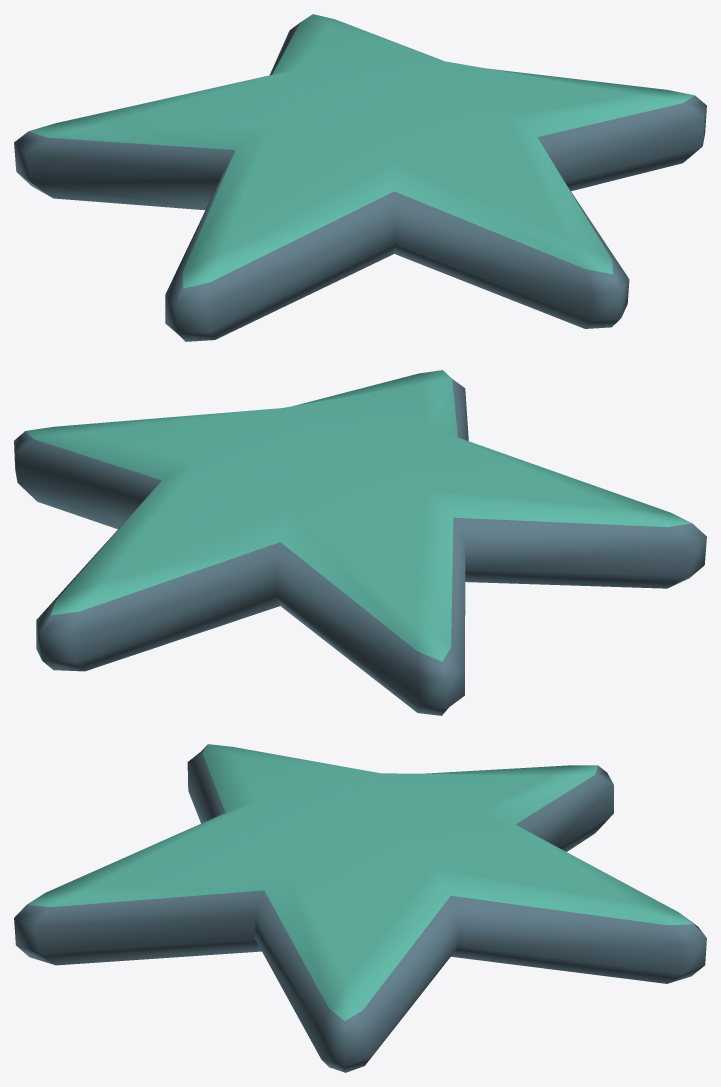
The model's file is SM_Starfish_002.fbx.
3 views of the same model, one above another, from view 1: azimuth 30°, elevation 25°; view 2: azimuth 150°, elevation 25°; view 3: azimuth 270°, elevation 25° (orthographic). The views are drawn at different scales.
Parts seen in each view (by area): view 1: Starfish_002; view 2: Starfish_002; view 3: Starfish_002.
Part boxes in pixels (x1,y1,x2,y2): Starfish_002: (14,14,706,341); Starfish_002: (14,370,706,715); Starfish_002: (14,744,706,1072).
Bounding box in the file's own units: 45.51 × 9.64 × 46.31.
1 material, 1 textured.
